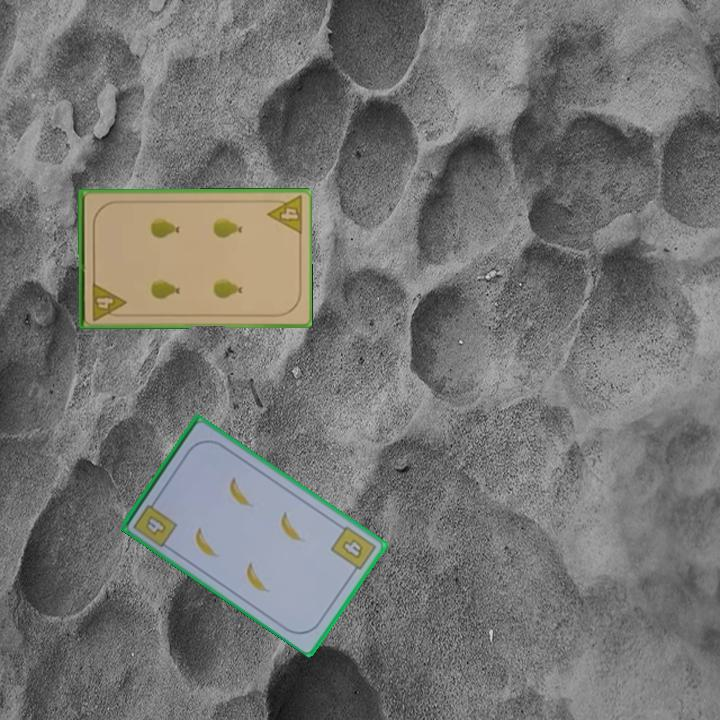4b: (327, 522, 379, 578), (130, 495, 180, 550)
4p: (262, 192, 304, 237), (88, 279, 128, 323)
